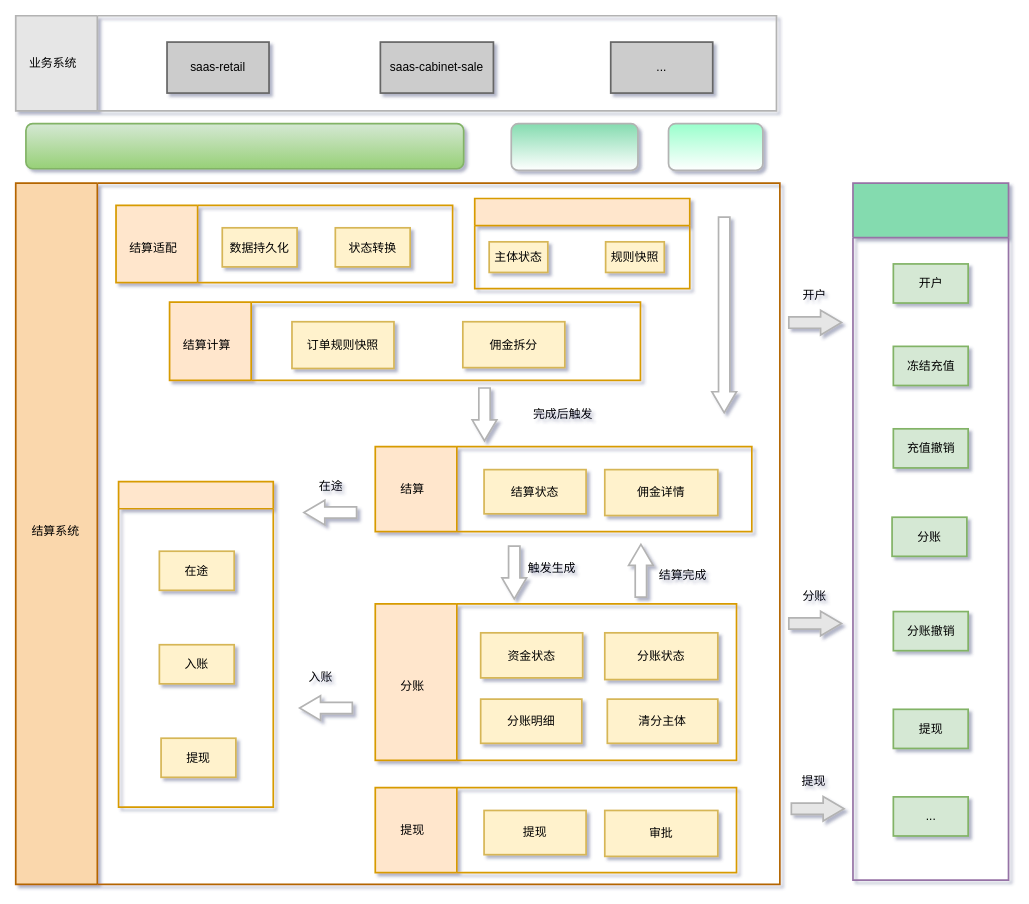
This 1029x904 diagram has some shape labels left out. Each missing label, with the box of its shape:
业务消息下发: (25, 122, 464, 169)
清分银行: (852, 182, 1009, 881)
结算查询: (667, 122, 763, 171)
结算规则: (473, 197, 690, 289)
结算配置变更: (510, 122, 638, 171)
虚拟账户: (117, 480, 274, 808)
